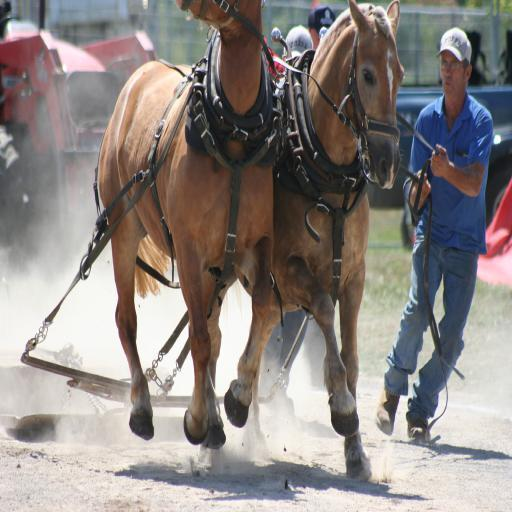horse: (197, 0, 405, 482), (95, 0, 277, 453)
